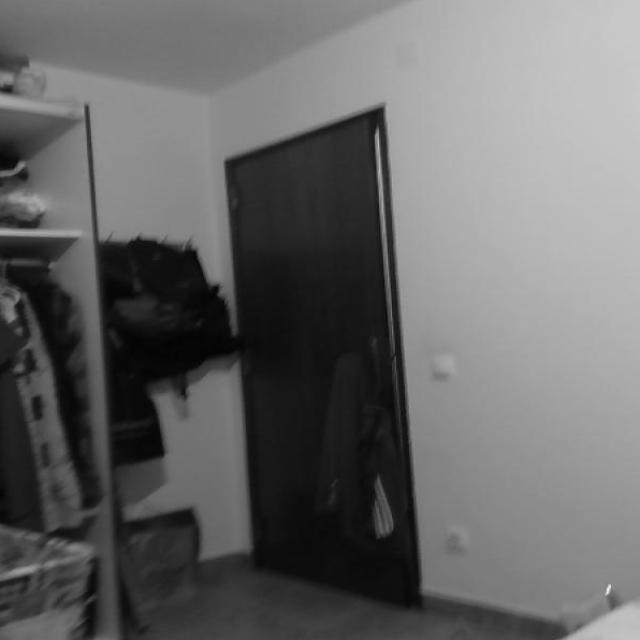Door: (222, 103, 423, 608)
